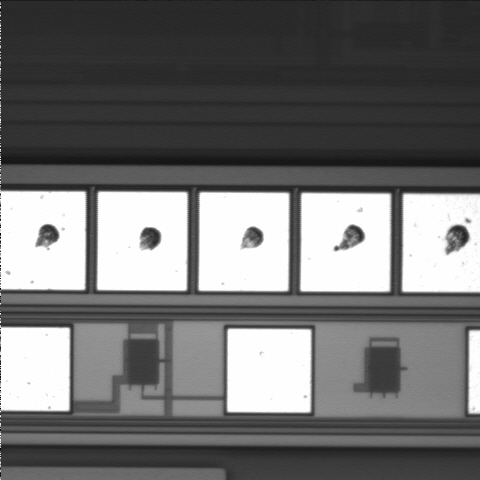pad: (97, 192, 187, 291), (199, 192, 289, 291), (301, 193, 390, 292), (227, 329, 311, 412)
